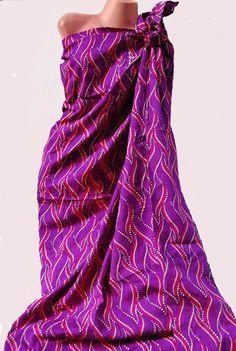malong: (0, 25, 236, 351)
